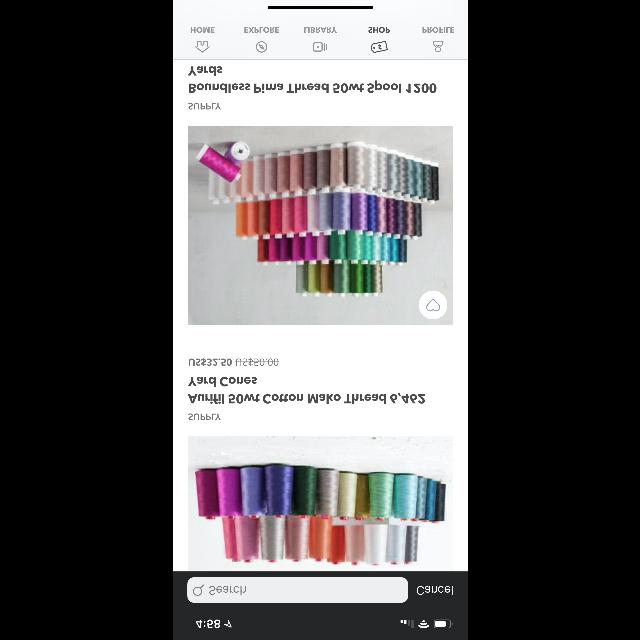icon: (419, 291, 447, 319), (370, 41, 388, 53), (192, 584, 204, 596), (313, 42, 327, 52), (195, 42, 209, 52), (433, 42, 443, 52), (256, 42, 266, 52)
image: (188, 126, 452, 324), (188, 436, 452, 572)
input: (186, 578, 408, 602)
text: (188, 66, 436, 94), (188, 378, 424, 404), (188, 358, 278, 366), (209, 586, 245, 594), (416, 586, 452, 594), (188, 102, 220, 110), (188, 414, 220, 421), (244, 27, 278, 33), (422, 27, 454, 33), (190, 27, 214, 33), (368, 27, 390, 33), (304, 28, 336, 32)
uppertaskbar: (195, 620, 452, 628)
